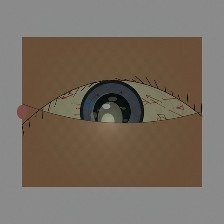corneal_ulcer: (83, 97, 137, 140)
